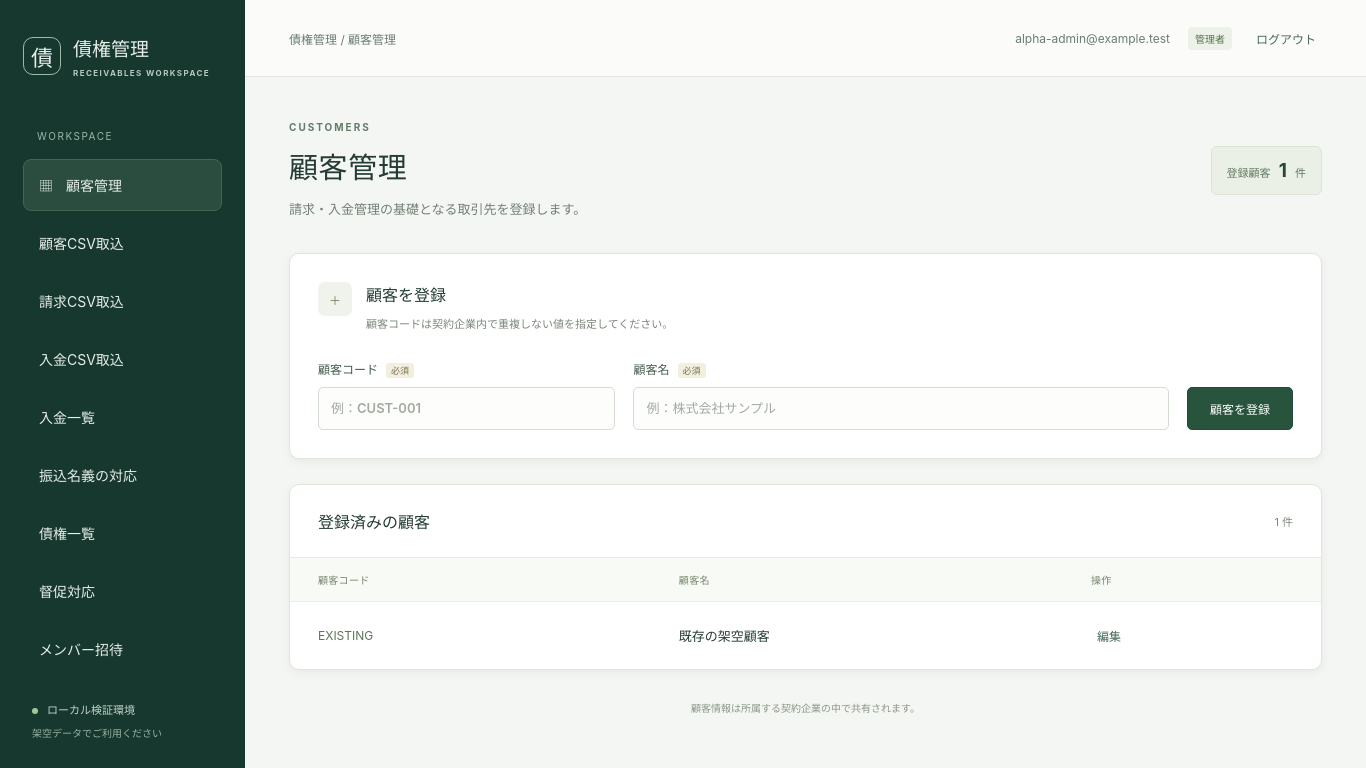
it: Customer workspace with cookie authentication › clears tenant data after expired authentication returns 401 and does not retry the mutation
Type "EXPIRED" into the field labelled "顧客コード 必須" at x=467, y=408, box [318,387,616,430]
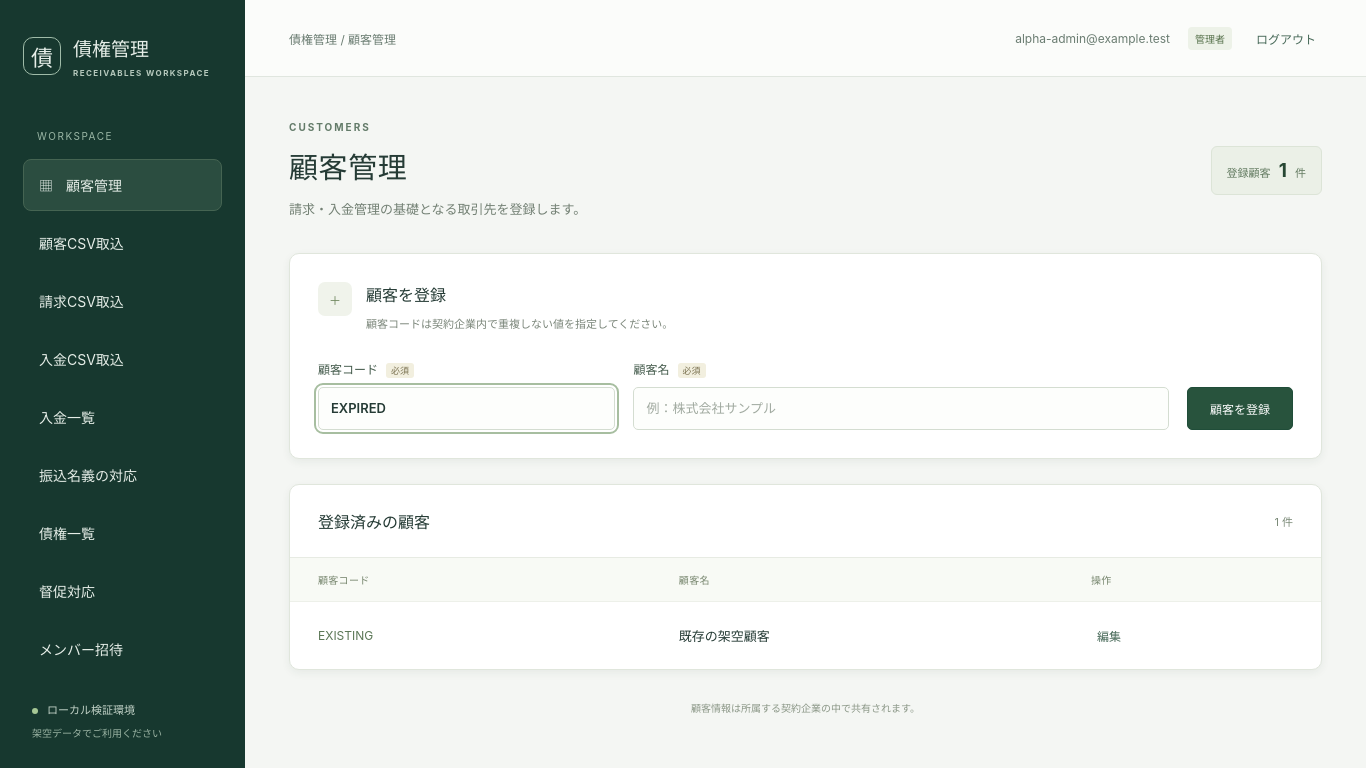
Type "失効後の架空顧客" into the field labelled "顧客名 必須" at x=901, y=408, box [634,387,1169,430]
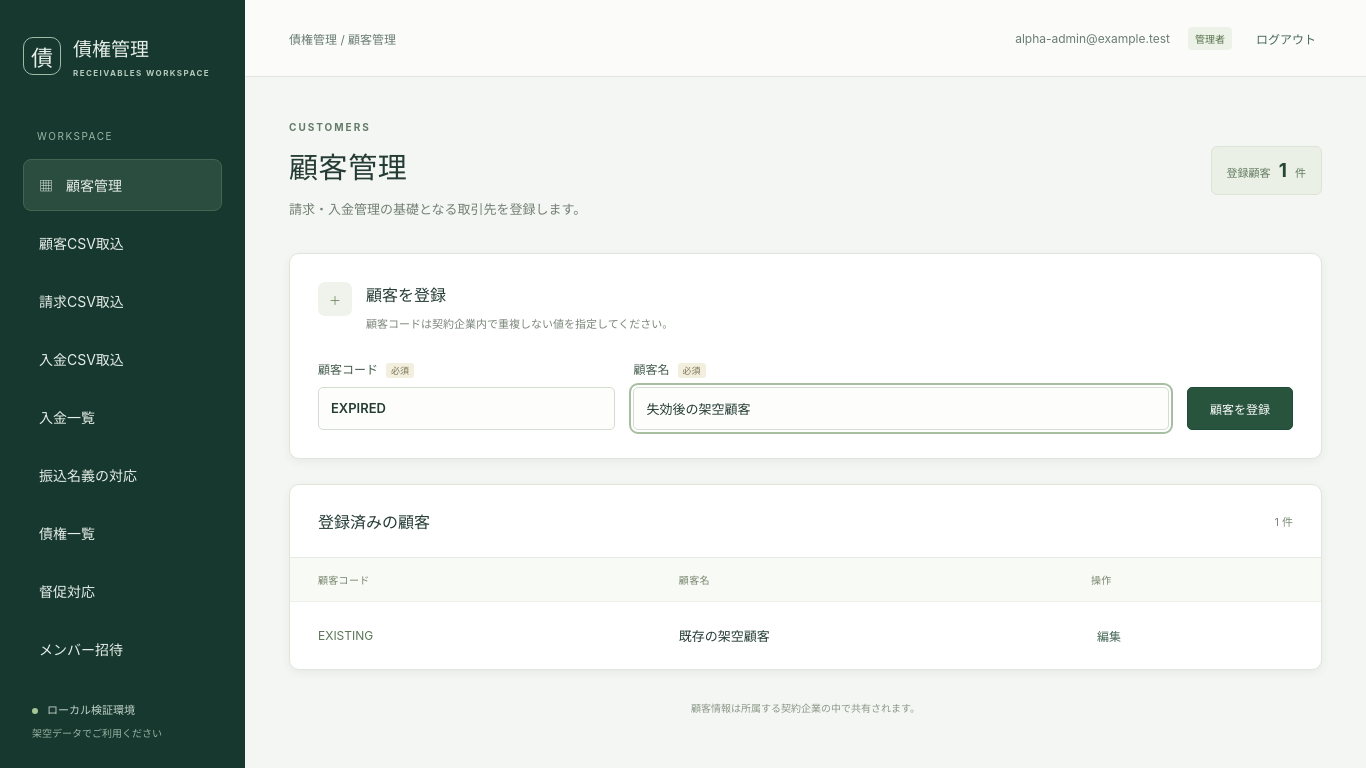
Click the button "顧客を登録" at x=1240, y=408, box [1187,387,1293,430]
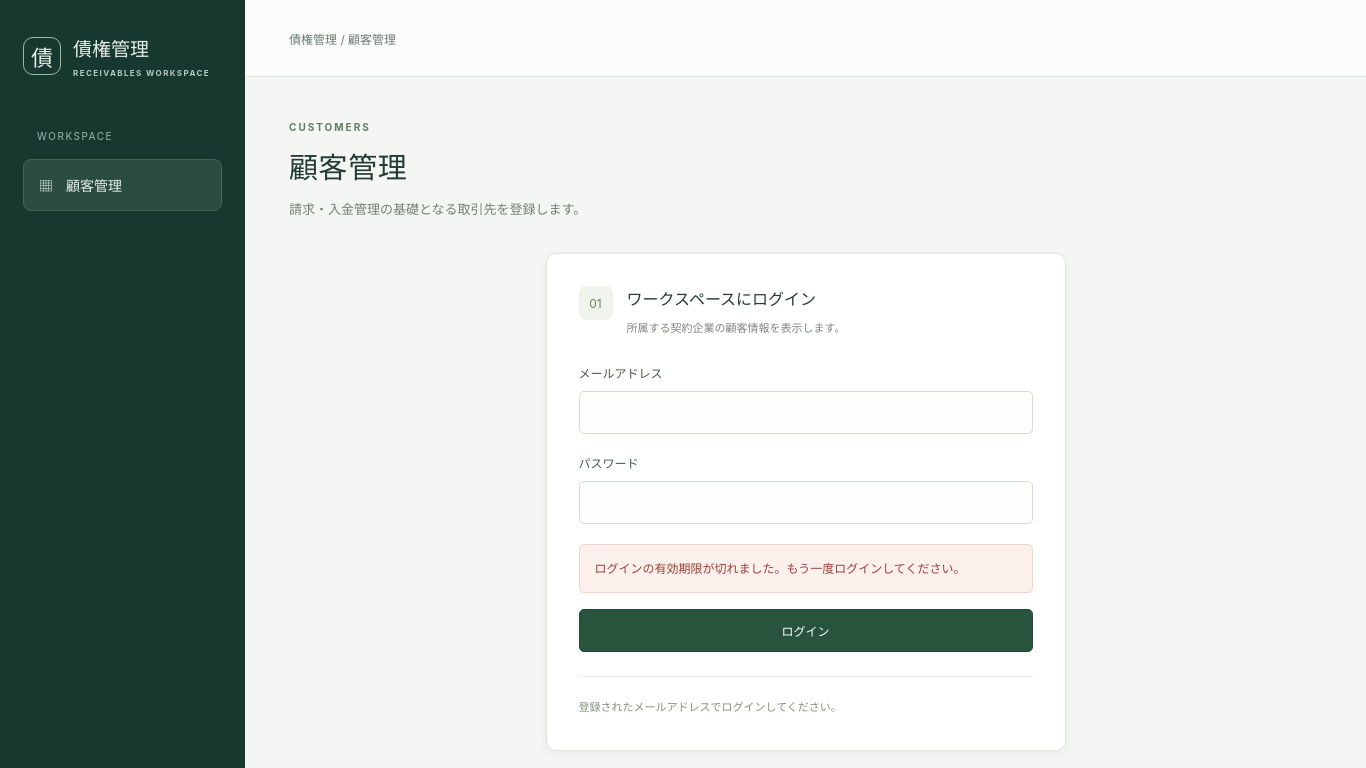
Expected: the message shows "ログインの有効期限が切れました", [594,561,965,576]
Expected: the password field labelled "パスワード" is empty, [578,481,1032,524]
Expected: the text "既存の架空顧客" is gone
